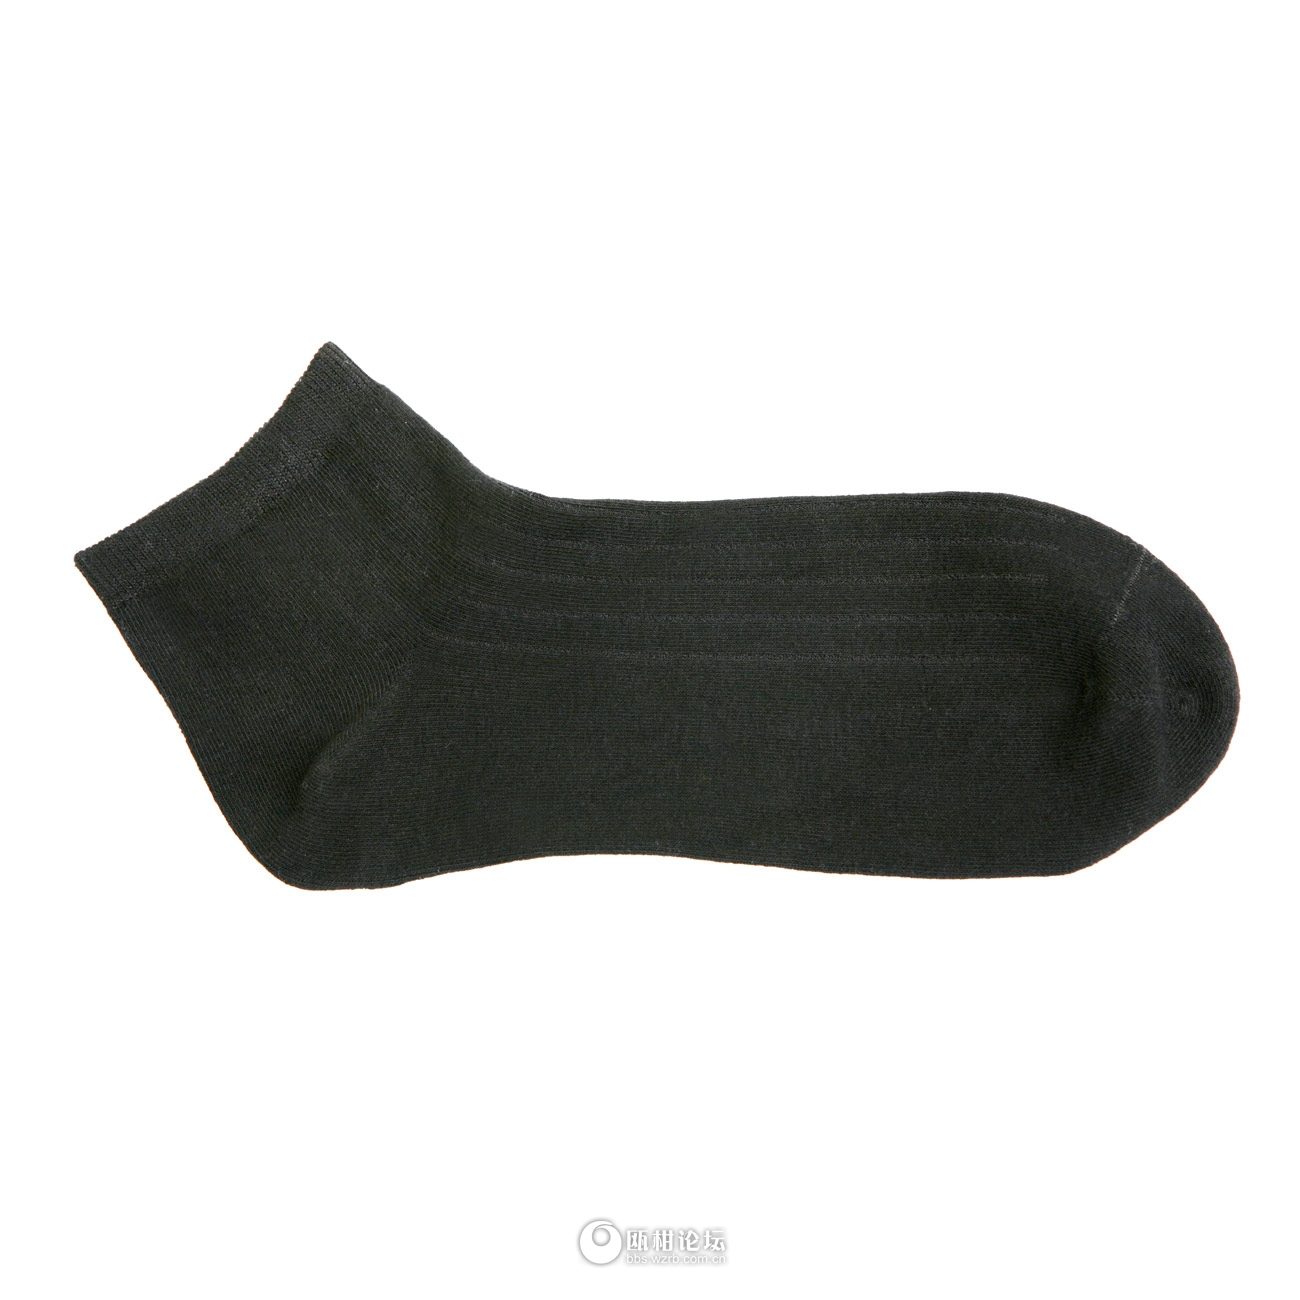flexible: (79, 339, 1243, 893)
